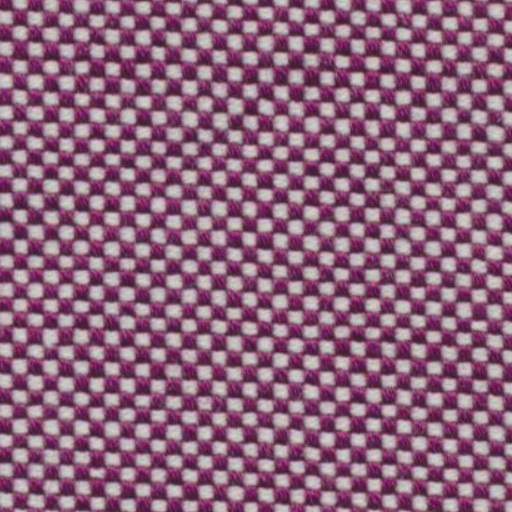TuoSha: (20, 16, 496, 103)
